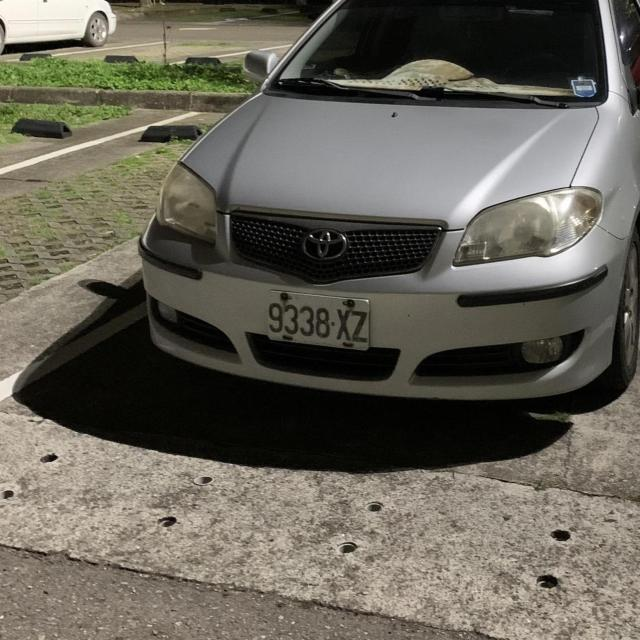W: (258, 284, 376, 356)
